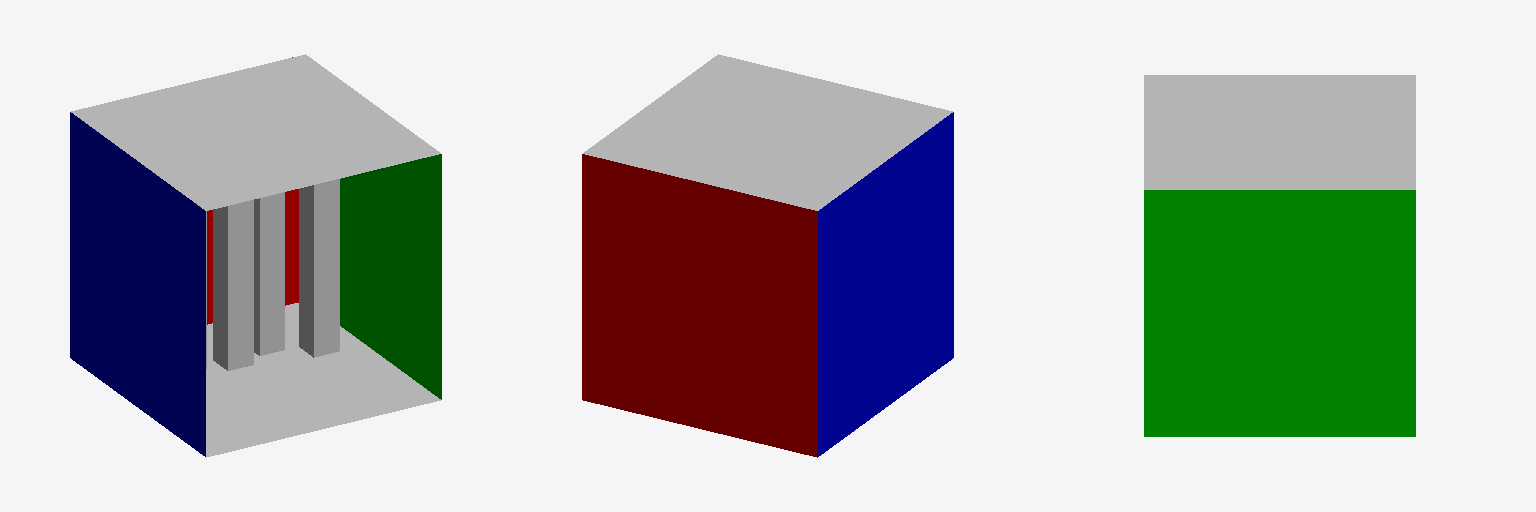
File: transparent.obj
3 renders of one model, left to right at view 1: azimuth 30°, elevation 25°; view 2: azimuth 150°, elevation 25°; view 3: azimuth 270°, elevation 25°, orthographic.
Parts seen in each view (by area): view 1: Plane.003, Plane.004, Plane.002, Plane, Cube, Cube.001_Cube.002, Cube.004_Cube.005, Plane.001, Plane.005_Plane.006; view 2: Plane.001, Plane.003, Plane.004, Plane.005_Plane.006; view 3: Plane.002, Plane.004, Plane.005_Plane.006.
Boxes of the visible parts, box(x1,y1,x2,y2) form: Plane.003: box(70, 112, 205, 456); Plane.004: box(71, 54, 440, 210); Plane.002: box(340, 154, 441, 399); Plane: box(206, 303, 440, 457); Cube: box(299, 179, 339, 357); Cube.001_Cube.002: box(213, 200, 253, 370); Cube.004_Cube.005: box(254, 192, 284, 355); Plane.001: box(207, 57, 298, 324); Plane.005_Plane.006: box(215, 116, 296, 149); Plane.001: box(582, 154, 817, 457); Plane.003: box(818, 112, 953, 456); Plane.004: box(583, 54, 952, 210); Plane.005_Plane.006: box(727, 115, 808, 149); Plane.002: box(1144, 190, 1415, 436); Plane.004: box(1144, 75, 1415, 189); Plane.005_Plane.006: box(1250, 120, 1309, 144).
Bounding box in the file's own units: 9.03 × 9.03 × 9.03.